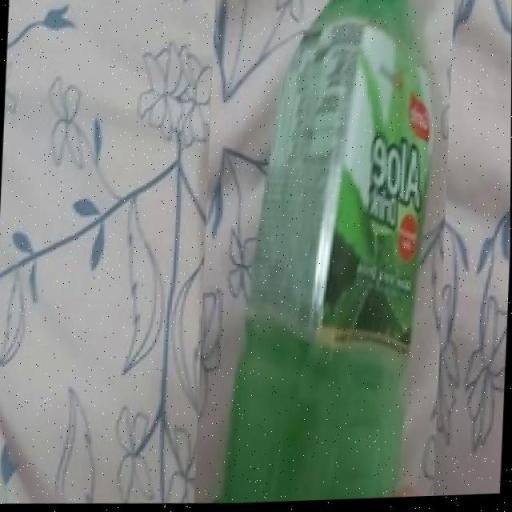plastic: (223, 0, 434, 500)
